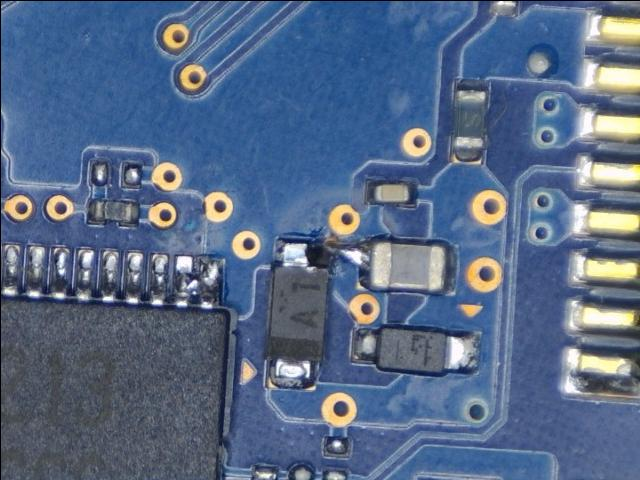Short_circuit: (282, 240, 392, 290), (174, 257, 222, 309)
